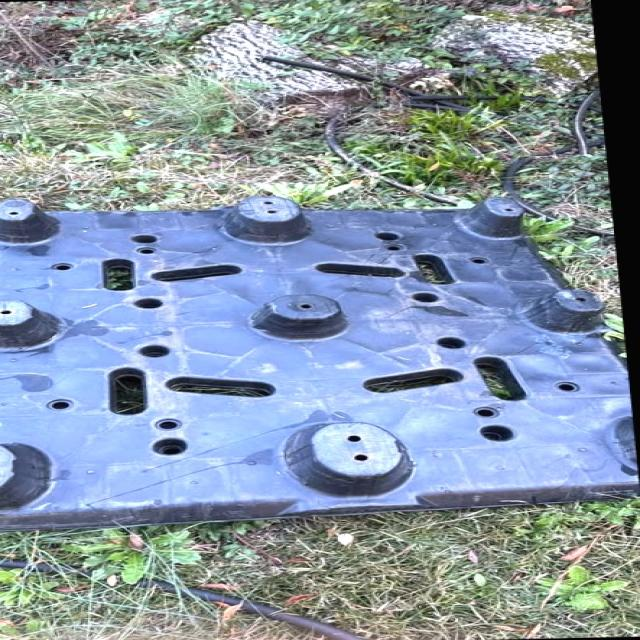non-igps: (0, 190, 640, 539)
